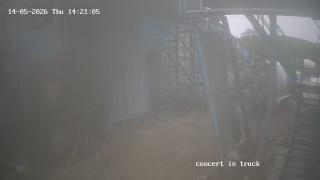cement_mixer_truck: (246, 51, 297, 114)
